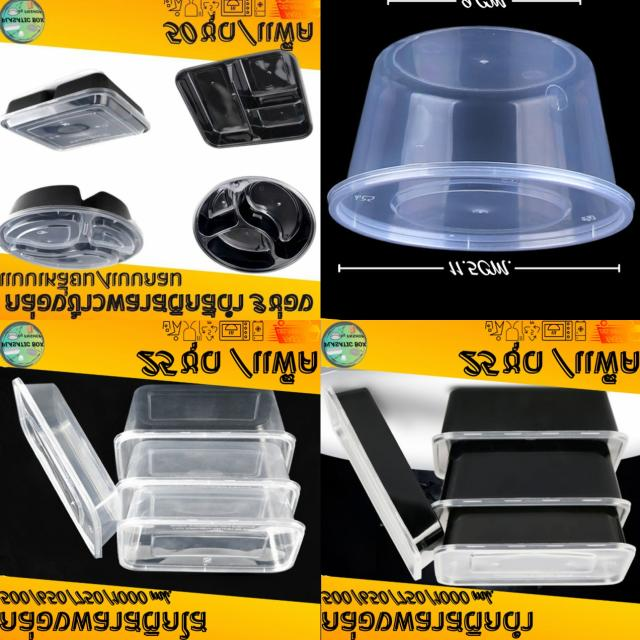plastik: (328, 26, 634, 251), (324, 388, 443, 580), (12, 378, 121, 558), (432, 388, 629, 478), (114, 384, 295, 480), (432, 439, 630, 525), (118, 486, 305, 573), (434, 506, 636, 585), (117, 439, 299, 511), (176, 50, 312, 146), (0, 186, 143, 270), (193, 177, 315, 273), (1, 74, 149, 150)
